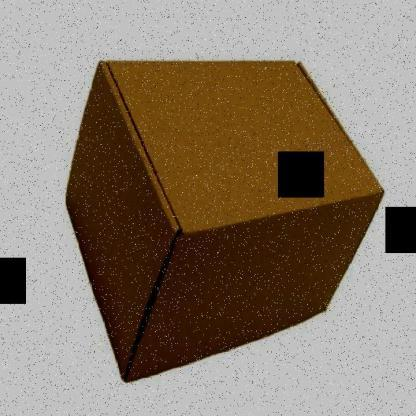-: (65, 54, 387, 385)
